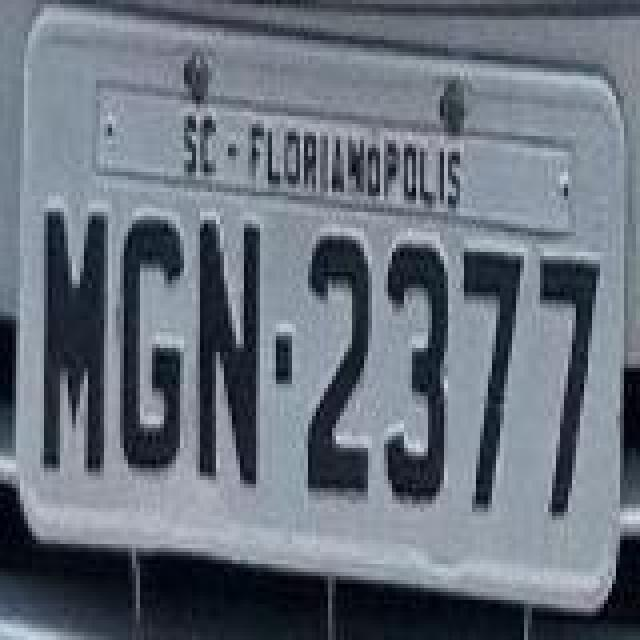2: (304, 226, 376, 494)
3: (380, 234, 452, 502)
7: (456, 236, 528, 516), (534, 250, 602, 518)
G: (116, 206, 188, 474)
M: (44, 208, 108, 480)
N: (198, 210, 266, 494)
